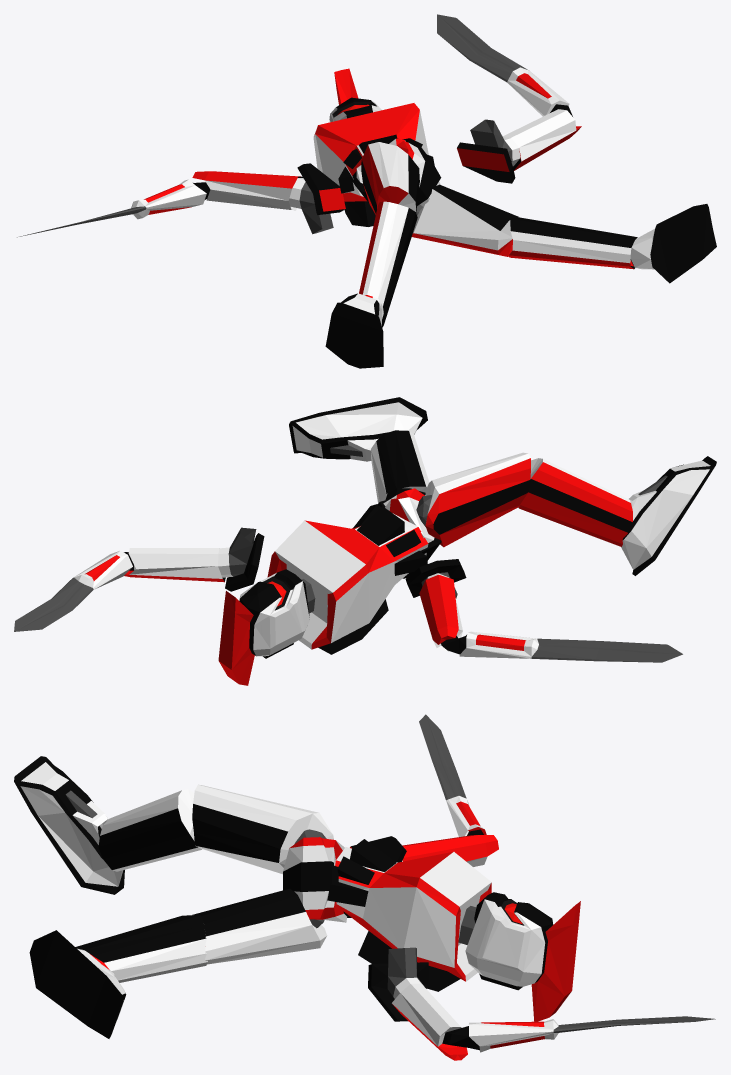
The model's file is robots_000009.obj.
3 views of the same model, one above another, from view 1: azimuth 30°, elevation 25°; view 2: azimuth 150°, elevation 25°; view 3: azimuth 270°, elevation 25° (orthographic). The views are drawn at different scales.
Visible parts, largest first — view 1: Chest_plate_Cube.004, R_Forearm.002_Cube.033, R_Forearm.001_Cube.028, R_Thigh.002_Cube.027, R_Shin.002_Cube.029, R_Foot.002_Cube.035, R_Shin_Cube.007, R_Foot_Cube, R_Thigh_Cube.005, R_Arm.003_Cube.034, R_Arm.002_Cube.032, Pelvis_Cube.006 (+1 smaller); view 2: Chest_plate_Cube.004, R_Forearm.001_Cube.028, Head_gladiator_Cube.024, R_Thigh_Cube.005, R_Forearm.002_Cube.033, R_Shin_Cube.007, R_Foot.002_Cube.035, R_Foot_Cube, R_Shin.002_Cube.029, R_Arm.003_Cube.034, Pelvis_Cube.006, R_Arm.002_Cube.032; view 3: Chest_plate_Cube.004, Head_gladiator_Cube.024, R_Thigh_Cube.005, R_Foot_Cube, R_Thigh.002_Cube.027, R_Forearm.002_Cube.033, R_Foot.002_Cube.035, R_Shin_Cube.007, R_Shin.002_Cube.029, R_Forearm.001_Cube.028, Pelvis_Cube.006, R_Arm.003_Cube.034 (+1 smaller).
Boxes of the visible parts, x1=… form: Chest_plate_Cube.004: x1=313, y1=103, x2=434, y2=226; R_Forearm.002_Cube.033: x1=437, y1=14, x2=581, y2=170; R_Forearm.001_Cube.028: x1=17, y1=171, x2=302, y2=237; R_Thigh.002_Cube.027: x1=411, y1=184, x2=519, y2=256; R_Shin.002_Cube.029: x1=509, y1=217, x2=637, y2=269; R_Foot.002_Cube.035: x1=630, y1=204, x2=716, y2=283; R_Shin_Cube.007: x1=359, y1=201, x2=417, y2=327; R_Foot_Cube: x1=325, y1=293, x2=383, y2=368; R_Thigh_Cube.005: x1=361, y1=142, x2=419, y2=214; R_Arm.003_Cube.034: x1=457, y1=119, x2=520, y2=183; R_Arm.002_Cube.032: x1=288, y1=163, x2=345, y2=234; Pelvis_Cube.006: x1=350, y1=138, x2=441, y2=212; Chest_plate_Cube.004: x1=267, y1=504, x2=428, y2=654; R_Forearm.001_Cube.028: x1=419, y1=574, x2=682, y2=662; Head_gladiator_Cube.024: x1=218, y1=569, x2=309, y2=685; R_Thigh_Cube.005: x1=425, y1=452, x2=530, y2=547; R_Forearm.002_Cube.033: x1=14, y1=548, x2=225, y2=631; R_Shin_Cube.007: x1=518, y1=458, x2=632, y2=546; R_Foot.002_Cube.035: x1=289, y1=397, x2=427, y2=461; R_Foot_Cube: x1=621, y1=456, x2=716, y2=575; R_Shin.002_Cube.029: x1=371, y1=430, x2=429, y2=503; R_Arm.003_Cube.034: x1=218, y1=527, x2=264, y2=591; Pelvis_Cube.006: x1=378, y1=488, x2=441, y2=578; R_Arm.002_Cube.032: x1=405, y1=559, x2=466, y2=598; Chest_plate_Cube.004: x1=327, y1=839, x2=491, y2=991; Head_gladiator_Cube.024: x1=465, y1=892, x2=580, y2=1021; R_Thigh_Cube.005: x1=192, y1=784, x2=333, y2=874; R_Foot_Cube: x1=14, y1=756, x2=124, y2=894; R_Thigh.002_Cube.027: x1=192, y1=888, x2=326, y2=964; R_Forearm.002_Cube.033: x1=392, y1=983, x2=715, y2=1060; R_Foot.002_Cube.035: x1=29, y1=930, x2=126, y2=1038; R_Shin_Cube.007: x1=98, y1=789, x2=202, y2=871; R_Shin.002_Cube.029: x1=75, y1=915, x2=207, y2=982; R_Forearm.001_Cube.028: x1=402, y1=714, x2=498, y2=866; Pelvis_Cube.006: x1=283, y1=837, x2=351, y2=922; R_Arm.003_Cube.034: x1=368, y1=947, x2=428, y2=1021.
Size of the model in its own units: 3.87 by 0.9994 by 3.83.
